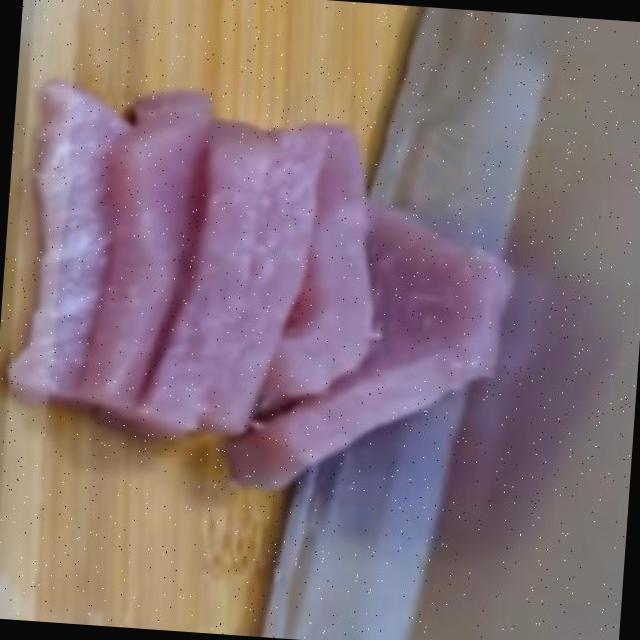potato: (7, 52, 230, 436), (149, 123, 335, 461), (310, 227, 527, 480), (274, 113, 382, 416)
